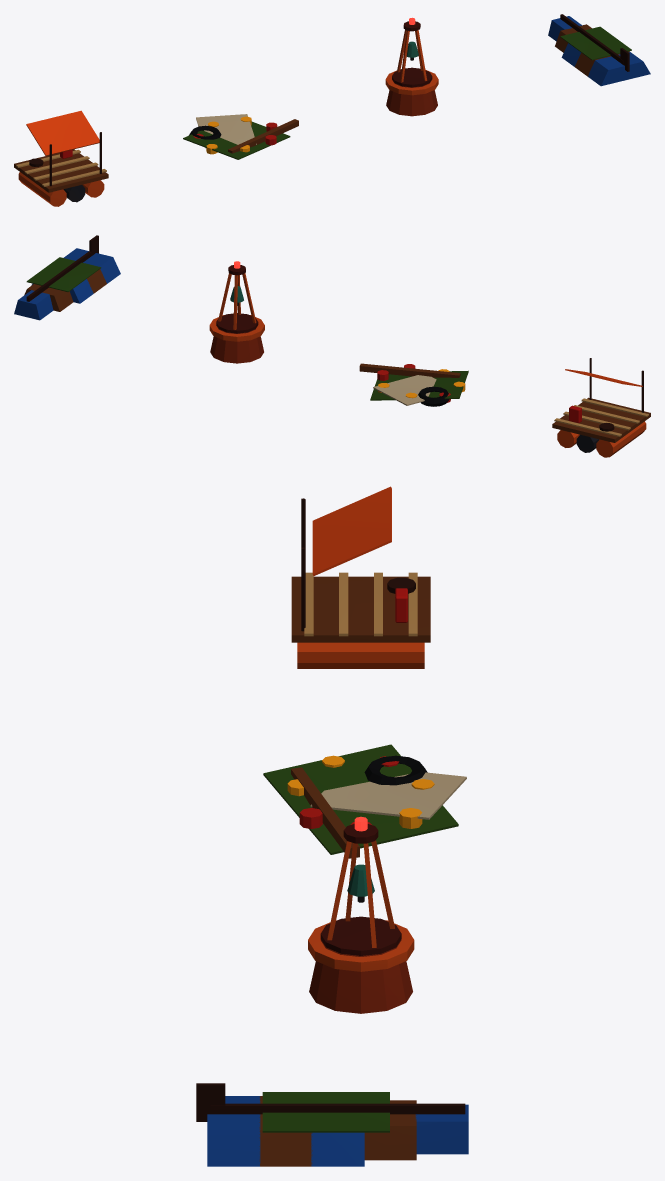
File: tb_flotsam_kit.three-web-toon.glb
The picture shows the model from 3 angles, top to bottom: view 1: azimuth 30°, elevation 25°; view 2: azimuth 150°, elevation 25°; view 3: azimuth 270°, elevation 25°; orthographic projection. The views are drawn at different scales.
Visible parts, largest first — view 1: barrel_raft, hull_shard, net_tangle, bell_buoy; view 2: hull_shard, barrel_raft, net_tangle, bell_buoy; view 3: hull_shard, barrel_raft, net_tangle, bell_buoy.
Boxes of the visible parts, bbox=[...] form: barrel_raft: bbox=[14, 110, 108, 206]; hull_shard: bbox=[548, 14, 650, 86]; net_tangle: bbox=[183, 114, 298, 159]; bell_buoy: bbox=[385, 17, 438, 116]; hull_shard: bbox=[14, 235, 120, 320]; barrel_raft: bbox=[552, 358, 650, 457]; net_tangle: bbox=[359, 363, 468, 406]; bell_buoy: bbox=[209, 261, 264, 363]; hull_shard: bbox=[196, 1083, 468, 1166]; barrel_raft: bbox=[291, 486, 430, 668]; net_tangle: bbox=[263, 744, 466, 858]; bell_buoy: bbox=[308, 816, 414, 1013].
Size of the model in its own units: 23.25 by 3.29 by 4.71.
